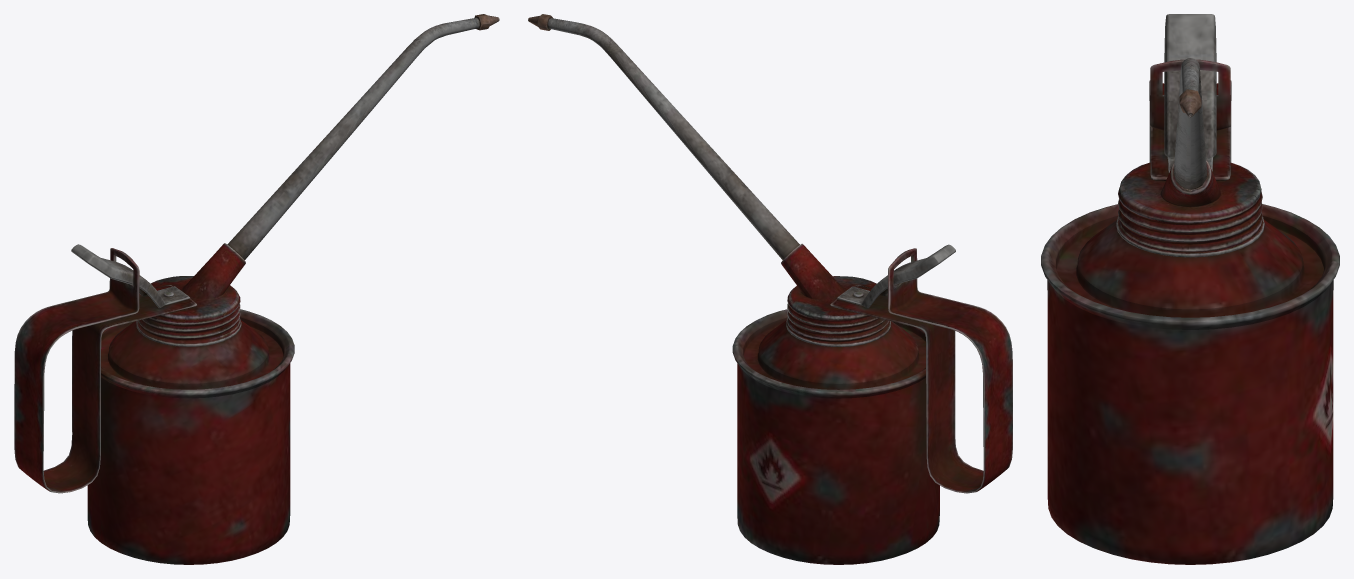
The model's file is small_oil_can_01.glb.
The picture shows the model from 3 angles, left to right: view 1: azimuth 30°, elevation 25°; view 2: azimuth 150°, elevation 25°; view 3: azimuth 270°, elevation 25°; orthographic projection. The views are drawn at different scales.
Parts seen in each view (by area): view 1: small_oil_can_01; view 2: small_oil_can_01; view 3: small_oil_can_01.
Part boxes in pixels (bbox=[...]): small_oil_can_01: bbox=[14, 14, 499, 564]; small_oil_can_01: bbox=[528, 14, 1012, 564]; small_oil_can_01: bbox=[1041, 14, 1339, 564].
Bounding box in the file's own units: 0.2661 × 0.2367 × 0.1038.
Materials: 1 (1 with a texture image).
